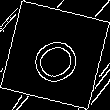O_NE: (22, 23, 88, 87)
